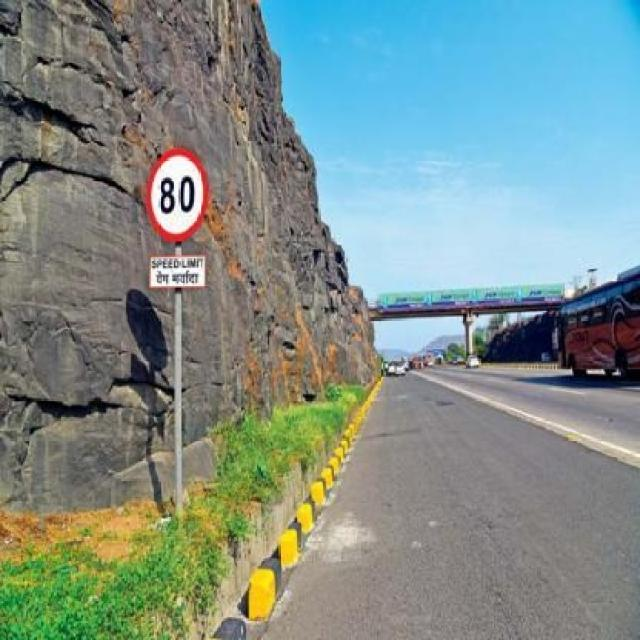forb_speed_over_80: (148, 150, 208, 239)
